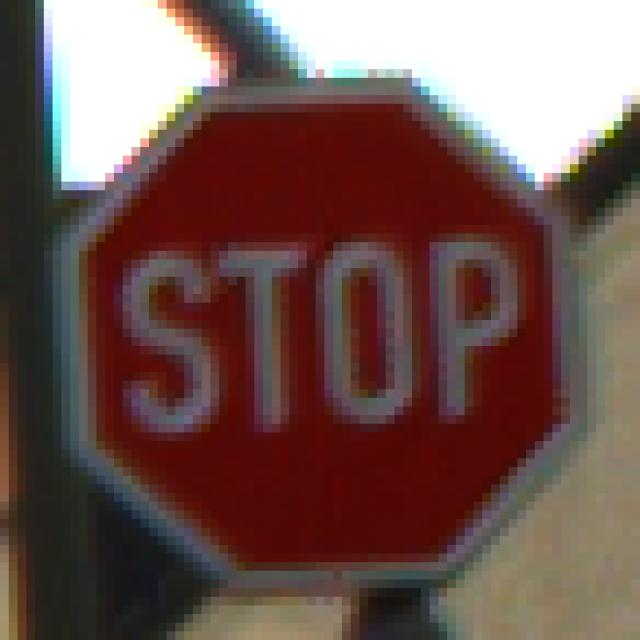STOP: (62, 62, 580, 581)
